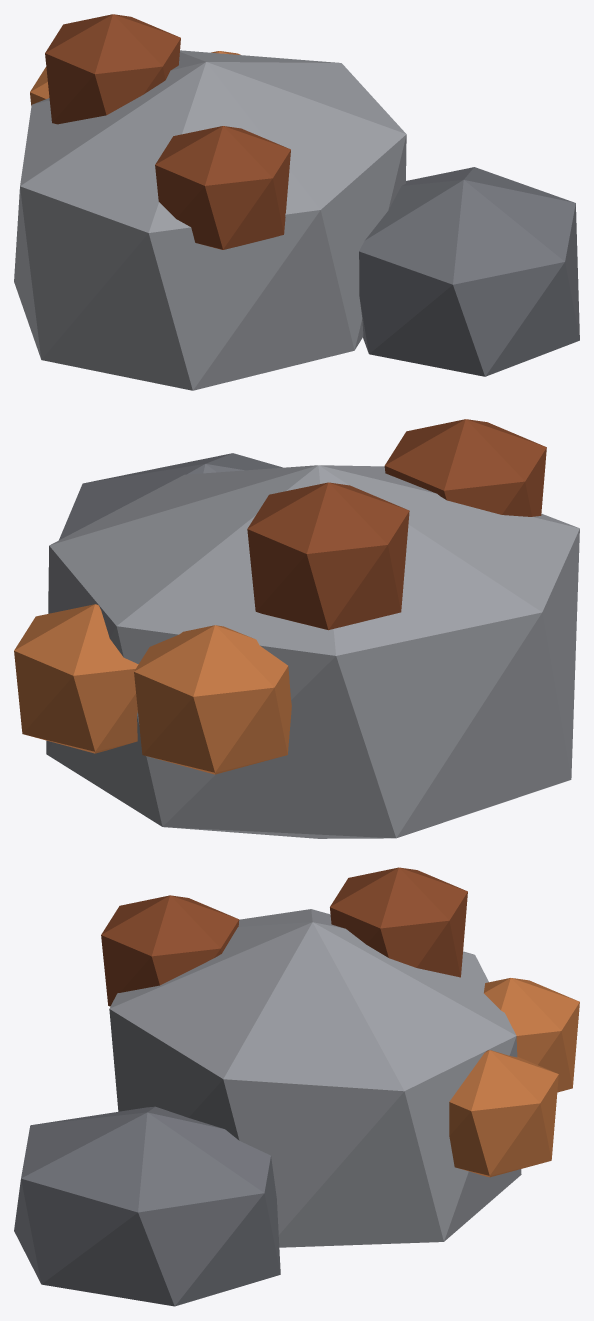
The model's file is drop_ore_iron.glb.
3 views of the same model, one above another, from view 1: azimuth 30°, elevation 25°; view 2: azimuth 150°, elevation 25°; view 3: azimuth 270°, elevation 25° (orthographic). The views are drawn at different scales.
Visible parts, largest first — view 1: drop_ore_iron; view 2: drop_ore_iron; view 3: drop_ore_iron.
Part boxes in pixels (x1,y1,x2,y2): drop_ore_iron: [14, 14, 579, 390]; drop_ore_iron: [14, 419, 579, 838]; drop_ore_iron: [14, 867, 579, 1306].
Bounding box in the file's own units: 0.2685 × 0.1857 × 0.274.
